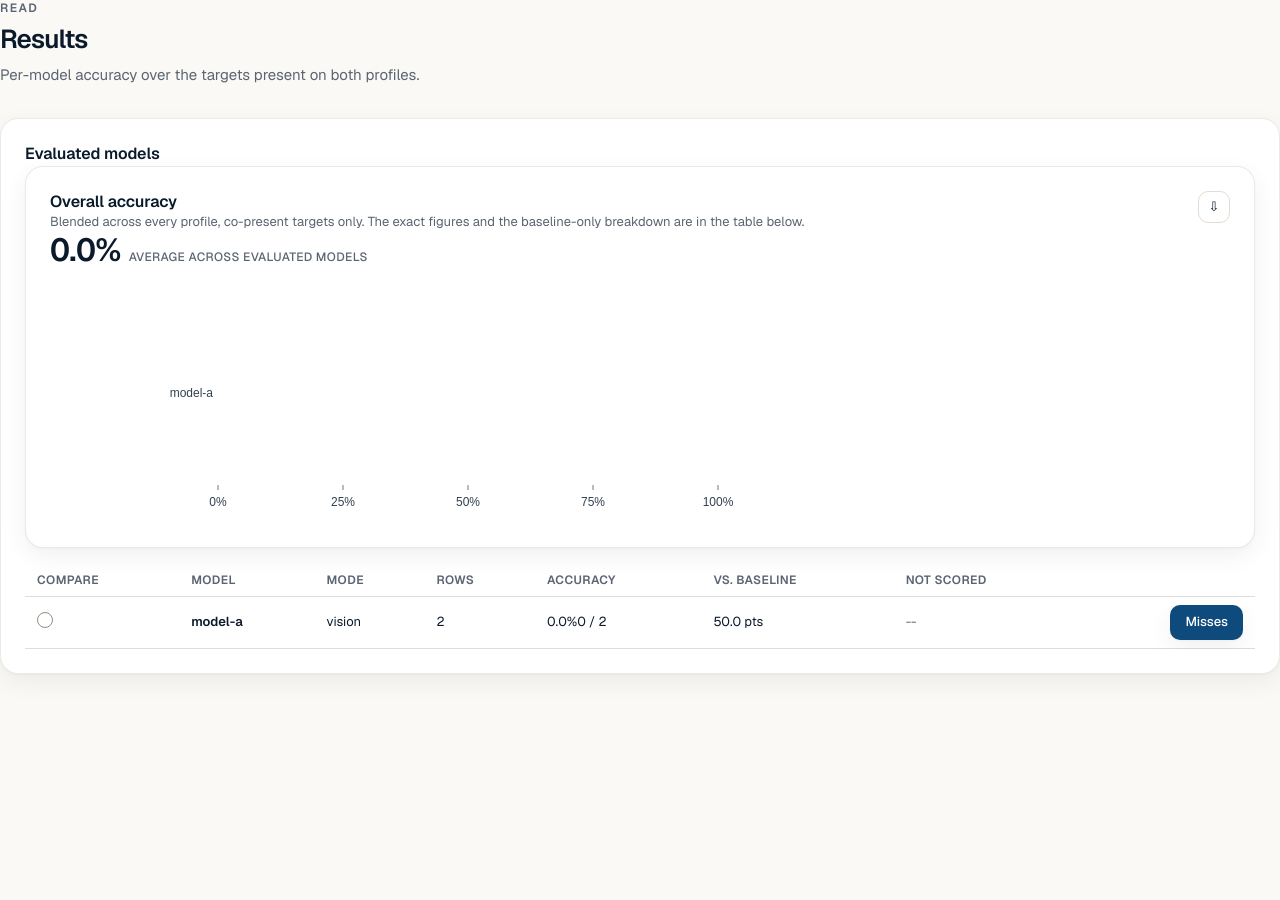
Test: compare and results interactions › supports miss inspector filmstrip navigation and Escape close
The image size is (1280, 900).
Click the button "Misses" at (1207, 622), box [1170, 605, 1243, 640]
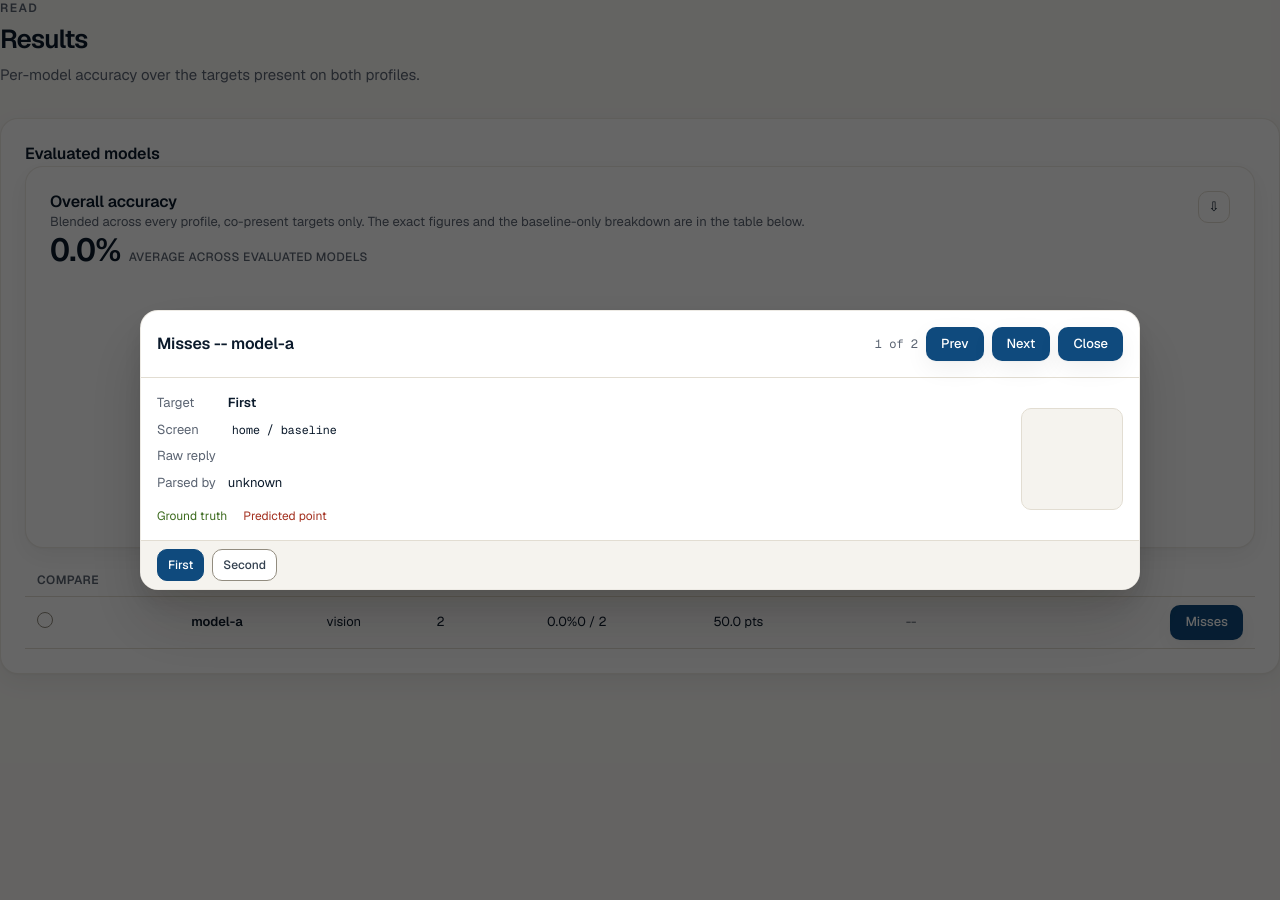
Expected: the dialog named "Miss inspector" is shown, [140, 310, 1140, 590]
Press ArrowRight
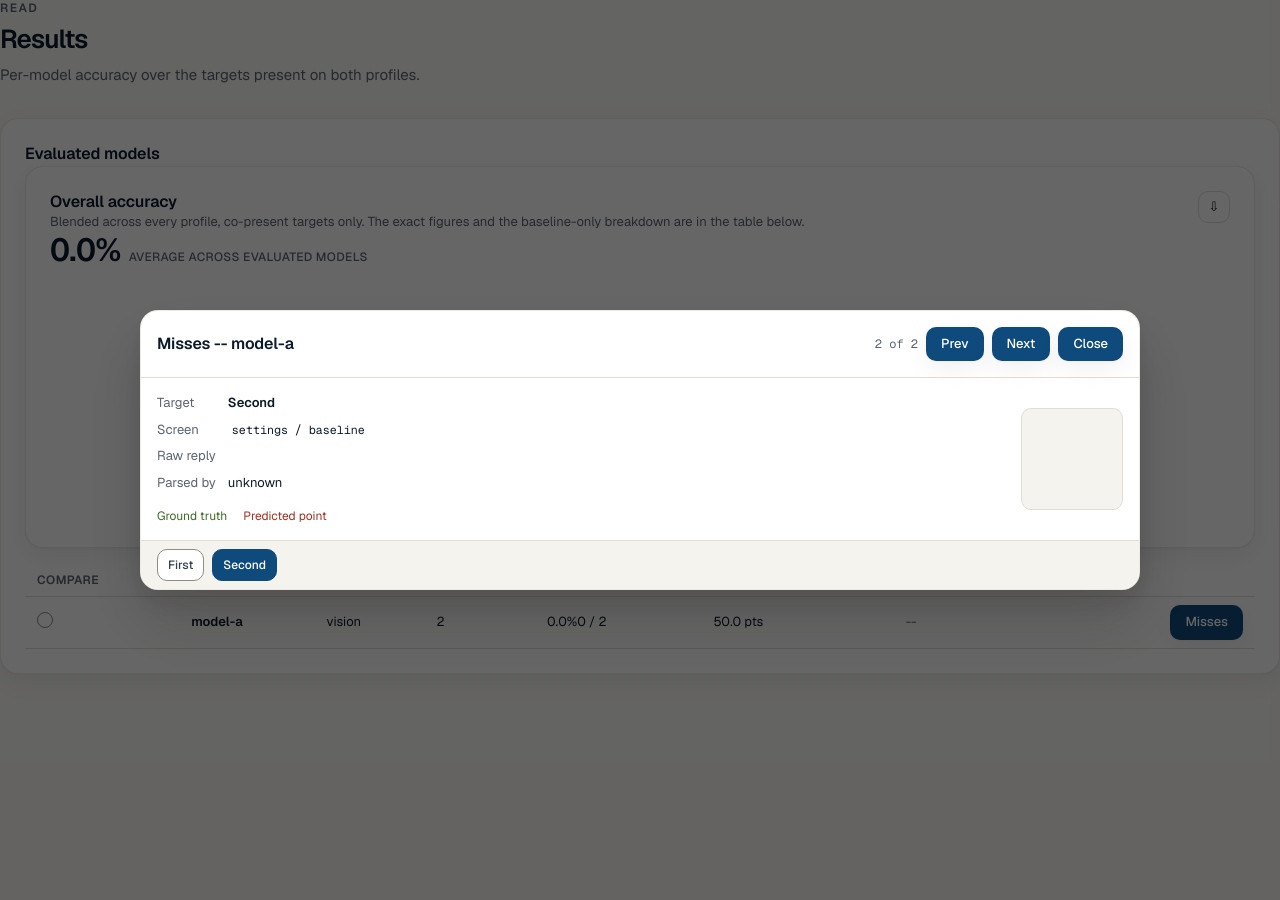
Expected: the button "Second" is marked as current, [212, 549, 277, 581]
Press Escape
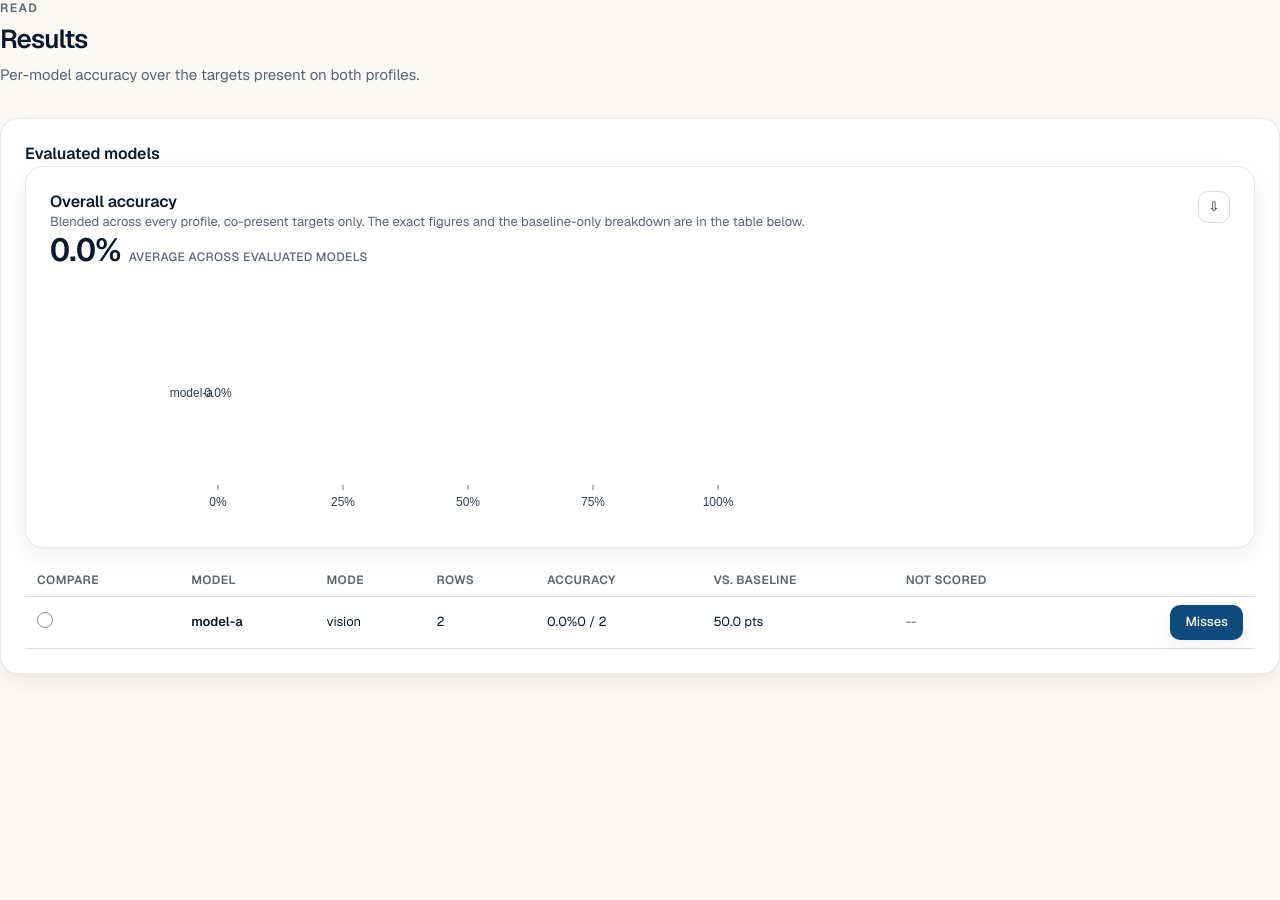
Expected: the dialog is gone
